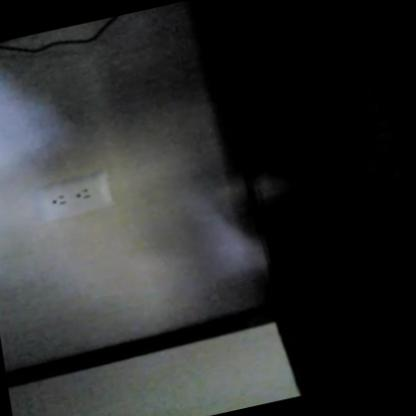OUTLET: (32, 169, 114, 225)
